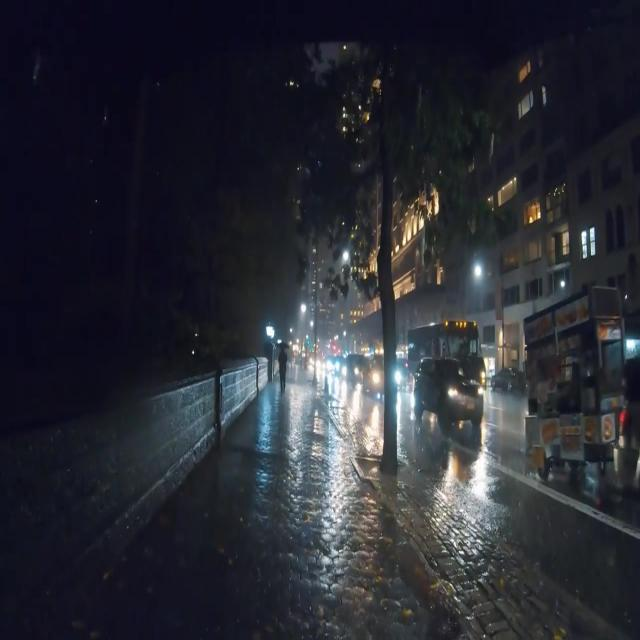Car: (417, 360, 482, 418), (361, 351, 384, 391)
